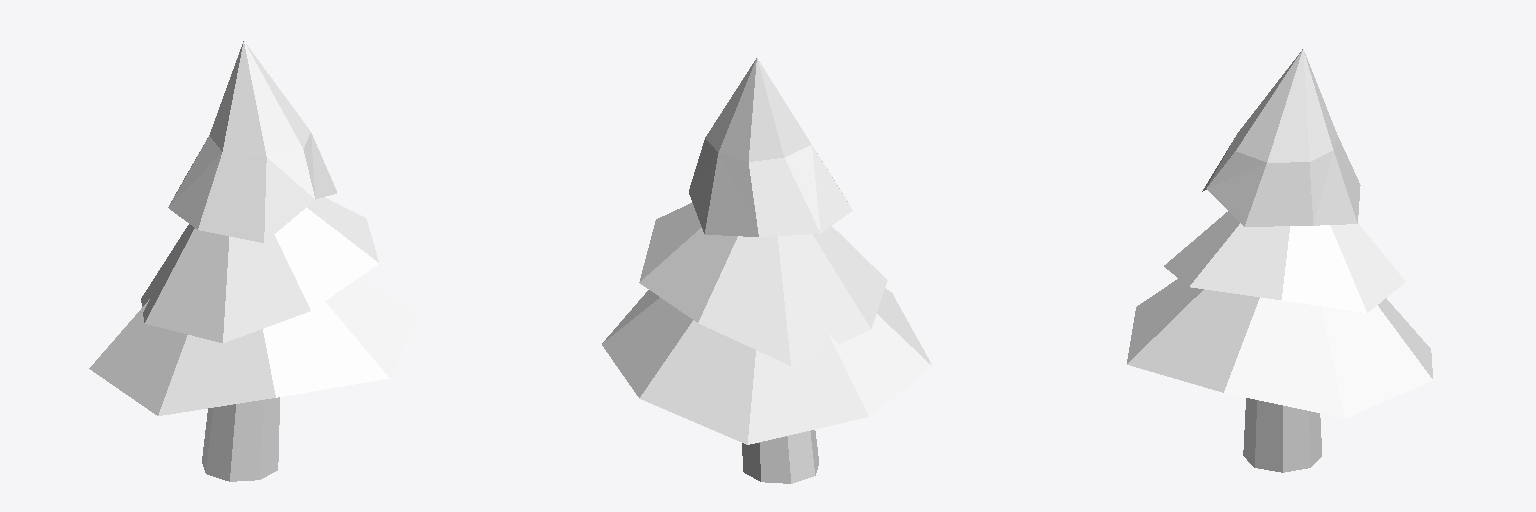
The model's file is Pine-1.obj.
3 renders of one model, left to right at view 1: azimuth 30°, elevation 25°; view 2: azimuth 150°, elevation 25°; view 3: azimuth 270°, elevation 25°, orthographic.
Parts seen in each view (by area): view 1: Green, Brown; view 2: Green, Brown; view 3: Green, Brown.
Boxes of the visible parts, x1,y1,x2,y2 form: Green: [89, 41, 417, 415]; Brown: [202, 397, 279, 481]; Green: [602, 58, 932, 444]; Brown: [742, 430, 818, 483]; Green: [1127, 49, 1432, 418]; Brown: [1243, 398, 1321, 472].
Bounding box in the file's own units: 0.9268 × 1.37 × 0.9181.